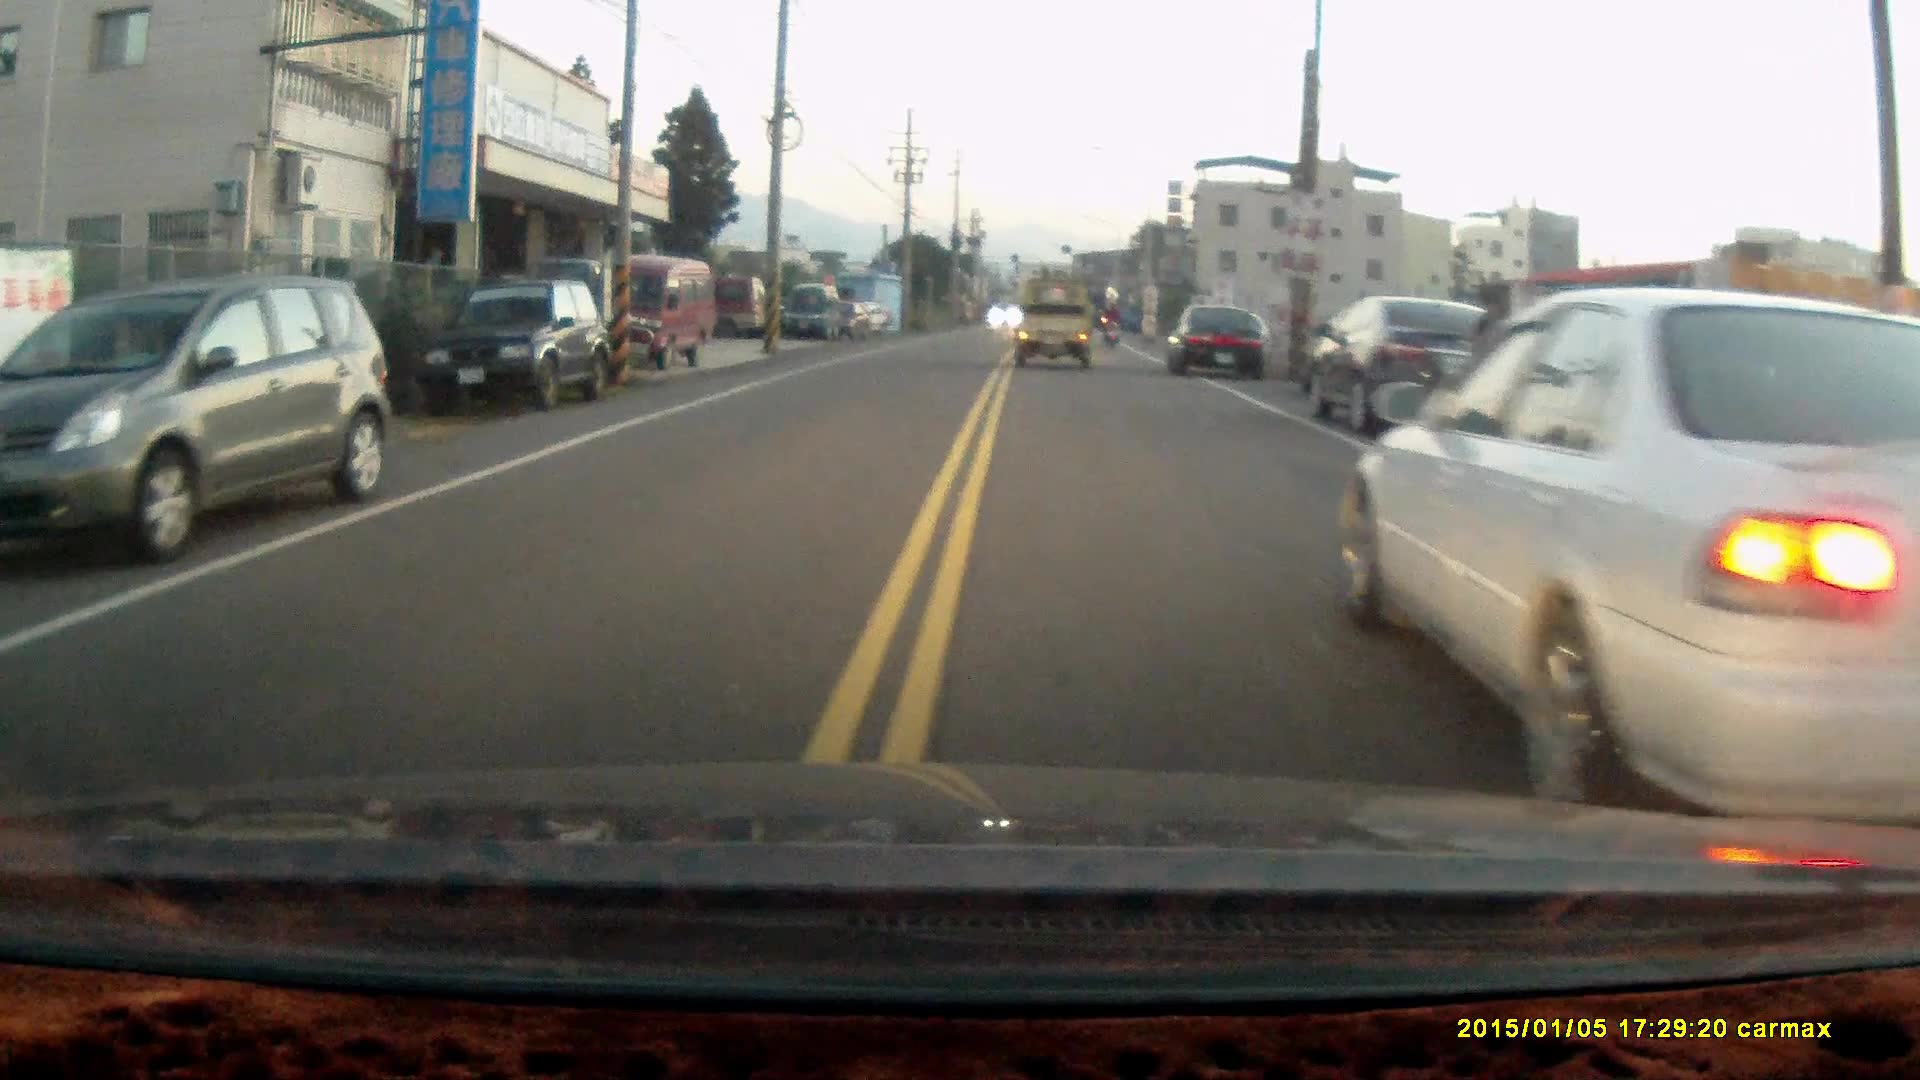rider: (1097, 298, 1123, 346)
vehicle: (1335, 278, 1920, 819), (1, 279, 396, 573), (1307, 291, 1532, 441), (422, 275, 605, 411), (571, 254, 718, 371), (1168, 300, 1275, 376), (1011, 279, 1102, 364), (785, 282, 848, 340)
